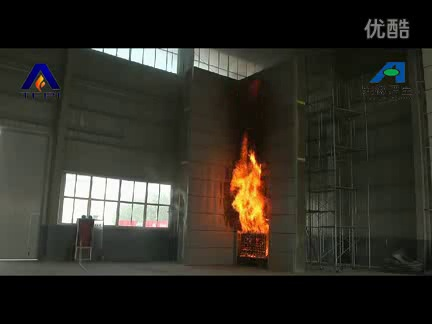fire: (231, 136, 270, 234)
